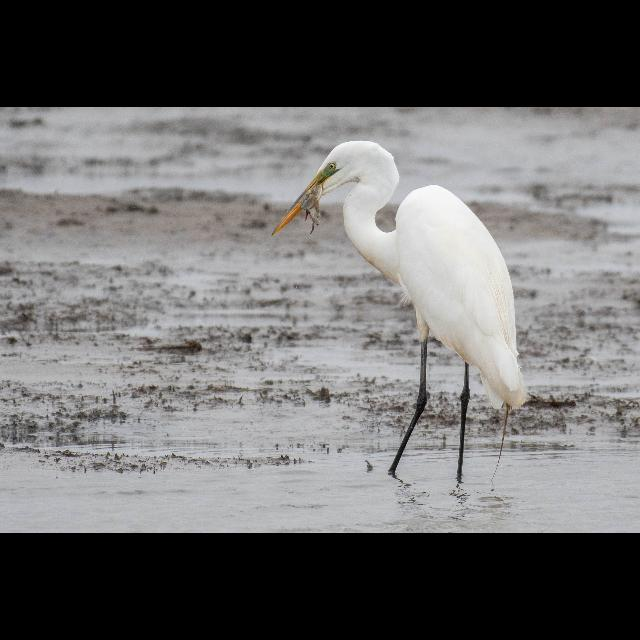egret: (265, 129, 529, 483)
